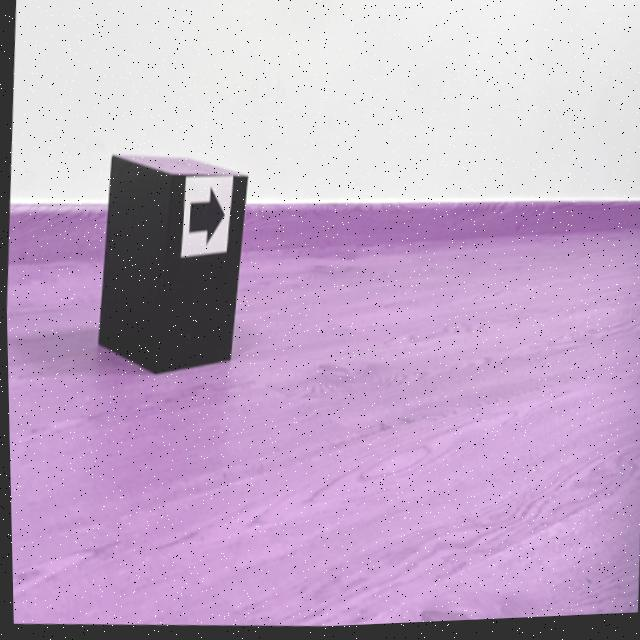RIGHT: (188, 190, 224, 245)
